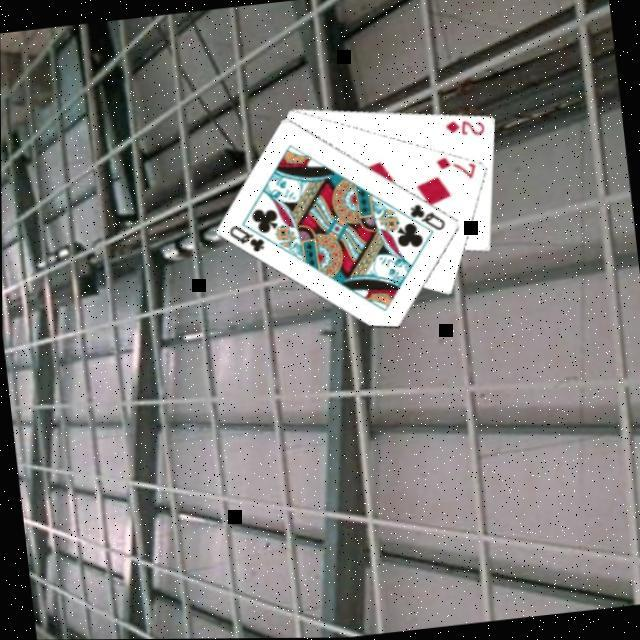2D: (443, 113, 489, 139)
7D: (434, 149, 481, 183)
QC: (227, 217, 270, 255), (407, 197, 450, 234)
